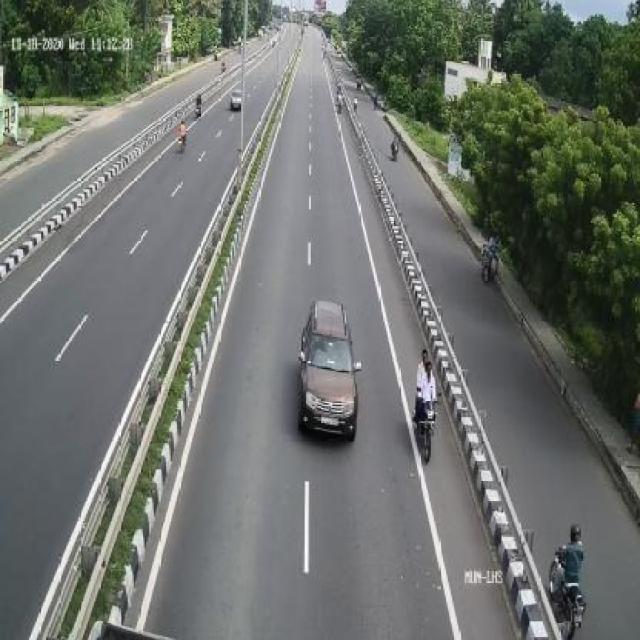car: (299, 292, 363, 445), (226, 88, 245, 112)
